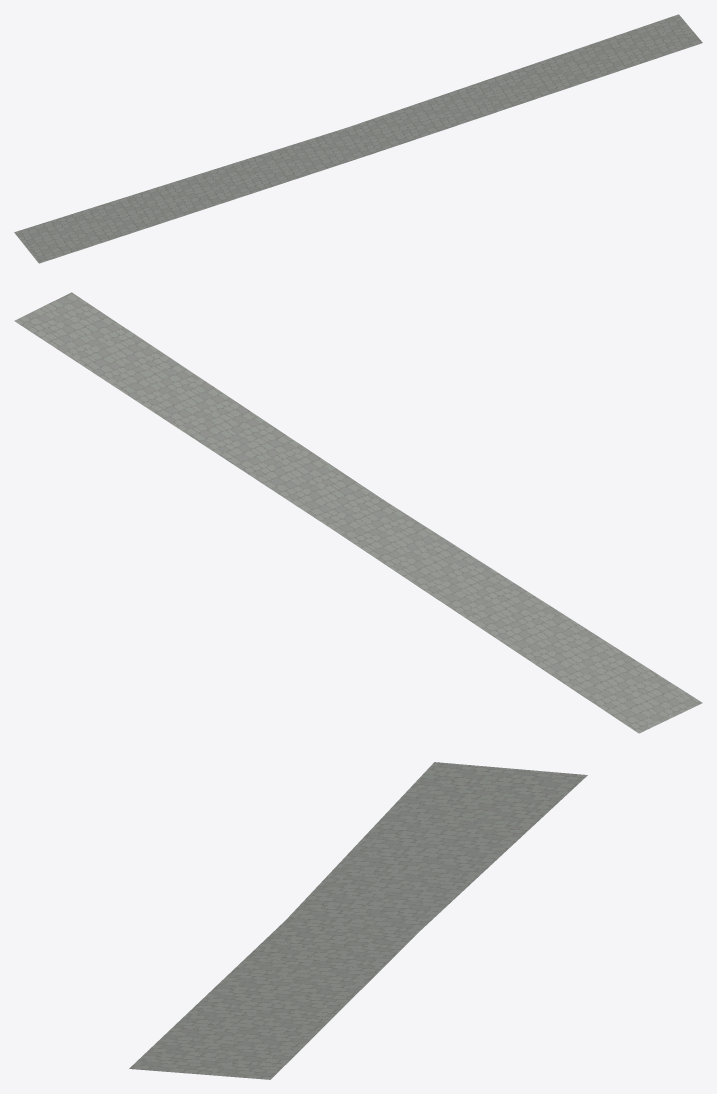
Rendered from kd_stage_1366d7_3_7.glb.
3 views of the same model, one above another, from view 1: azimuth 30°, elevation 25°; view 2: azimuth 150°, elevation 25°; view 3: azimuth 270°, elevation 25° (orthographic). The views are drawn at different scales.
Parts seen in each view (by area): view 1: kd_stage_1366d7_3_7; view 2: kd_stage_1366d7_3_7; view 3: kd_stage_1366d7_3_7.
Boxes of the visible parts, x1,y1,x2,y2 form: kd_stage_1366d7_3_7: (14, 14, 702, 263); kd_stage_1366d7_3_7: (14, 292, 702, 733); kd_stage_1366d7_3_7: (129, 762, 587, 1079).
Size of the model in its own units: 64.61 by 13.74 by 21.45.
Materials: 1 (1 with a texture image).
